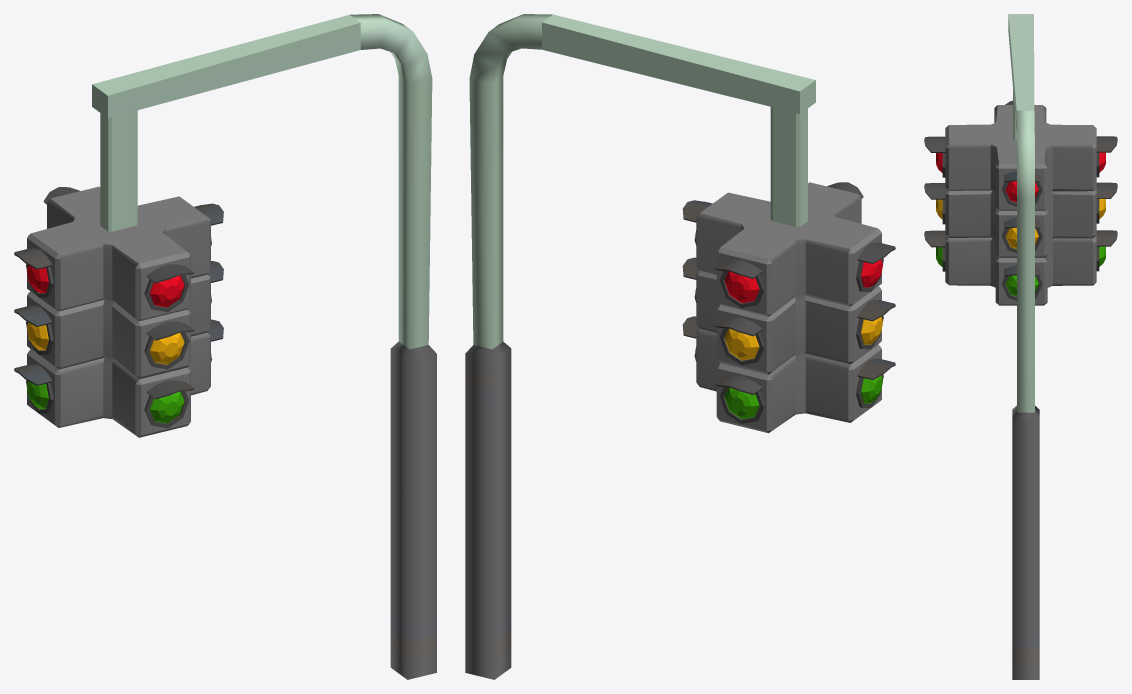
File: SM_Traffic_Light.fbx
3 views of the same model, side by side, from view 1: azimuth 30°, elevation 25°; view 2: azimuth 150°, elevation 25°; view 3: azimuth 270°, elevation 25° (orthographic). The views are drawn at different scales.
Visible parts, largest first — view 1: SM_Traffic_Light; view 2: SM_Traffic_Light; view 3: SM_Traffic_Light.
Part boxes in pixels (left/top/right/bottom): SM_Traffic_Light: left=14, top=14, right=436, bottom=679; SM_Traffic_Light: left=465, top=14, right=895, bottom=679; SM_Traffic_Light: left=924, top=14, right=1117, bottom=679.
Size of the model in its own units: 559 by 861 by 279.
